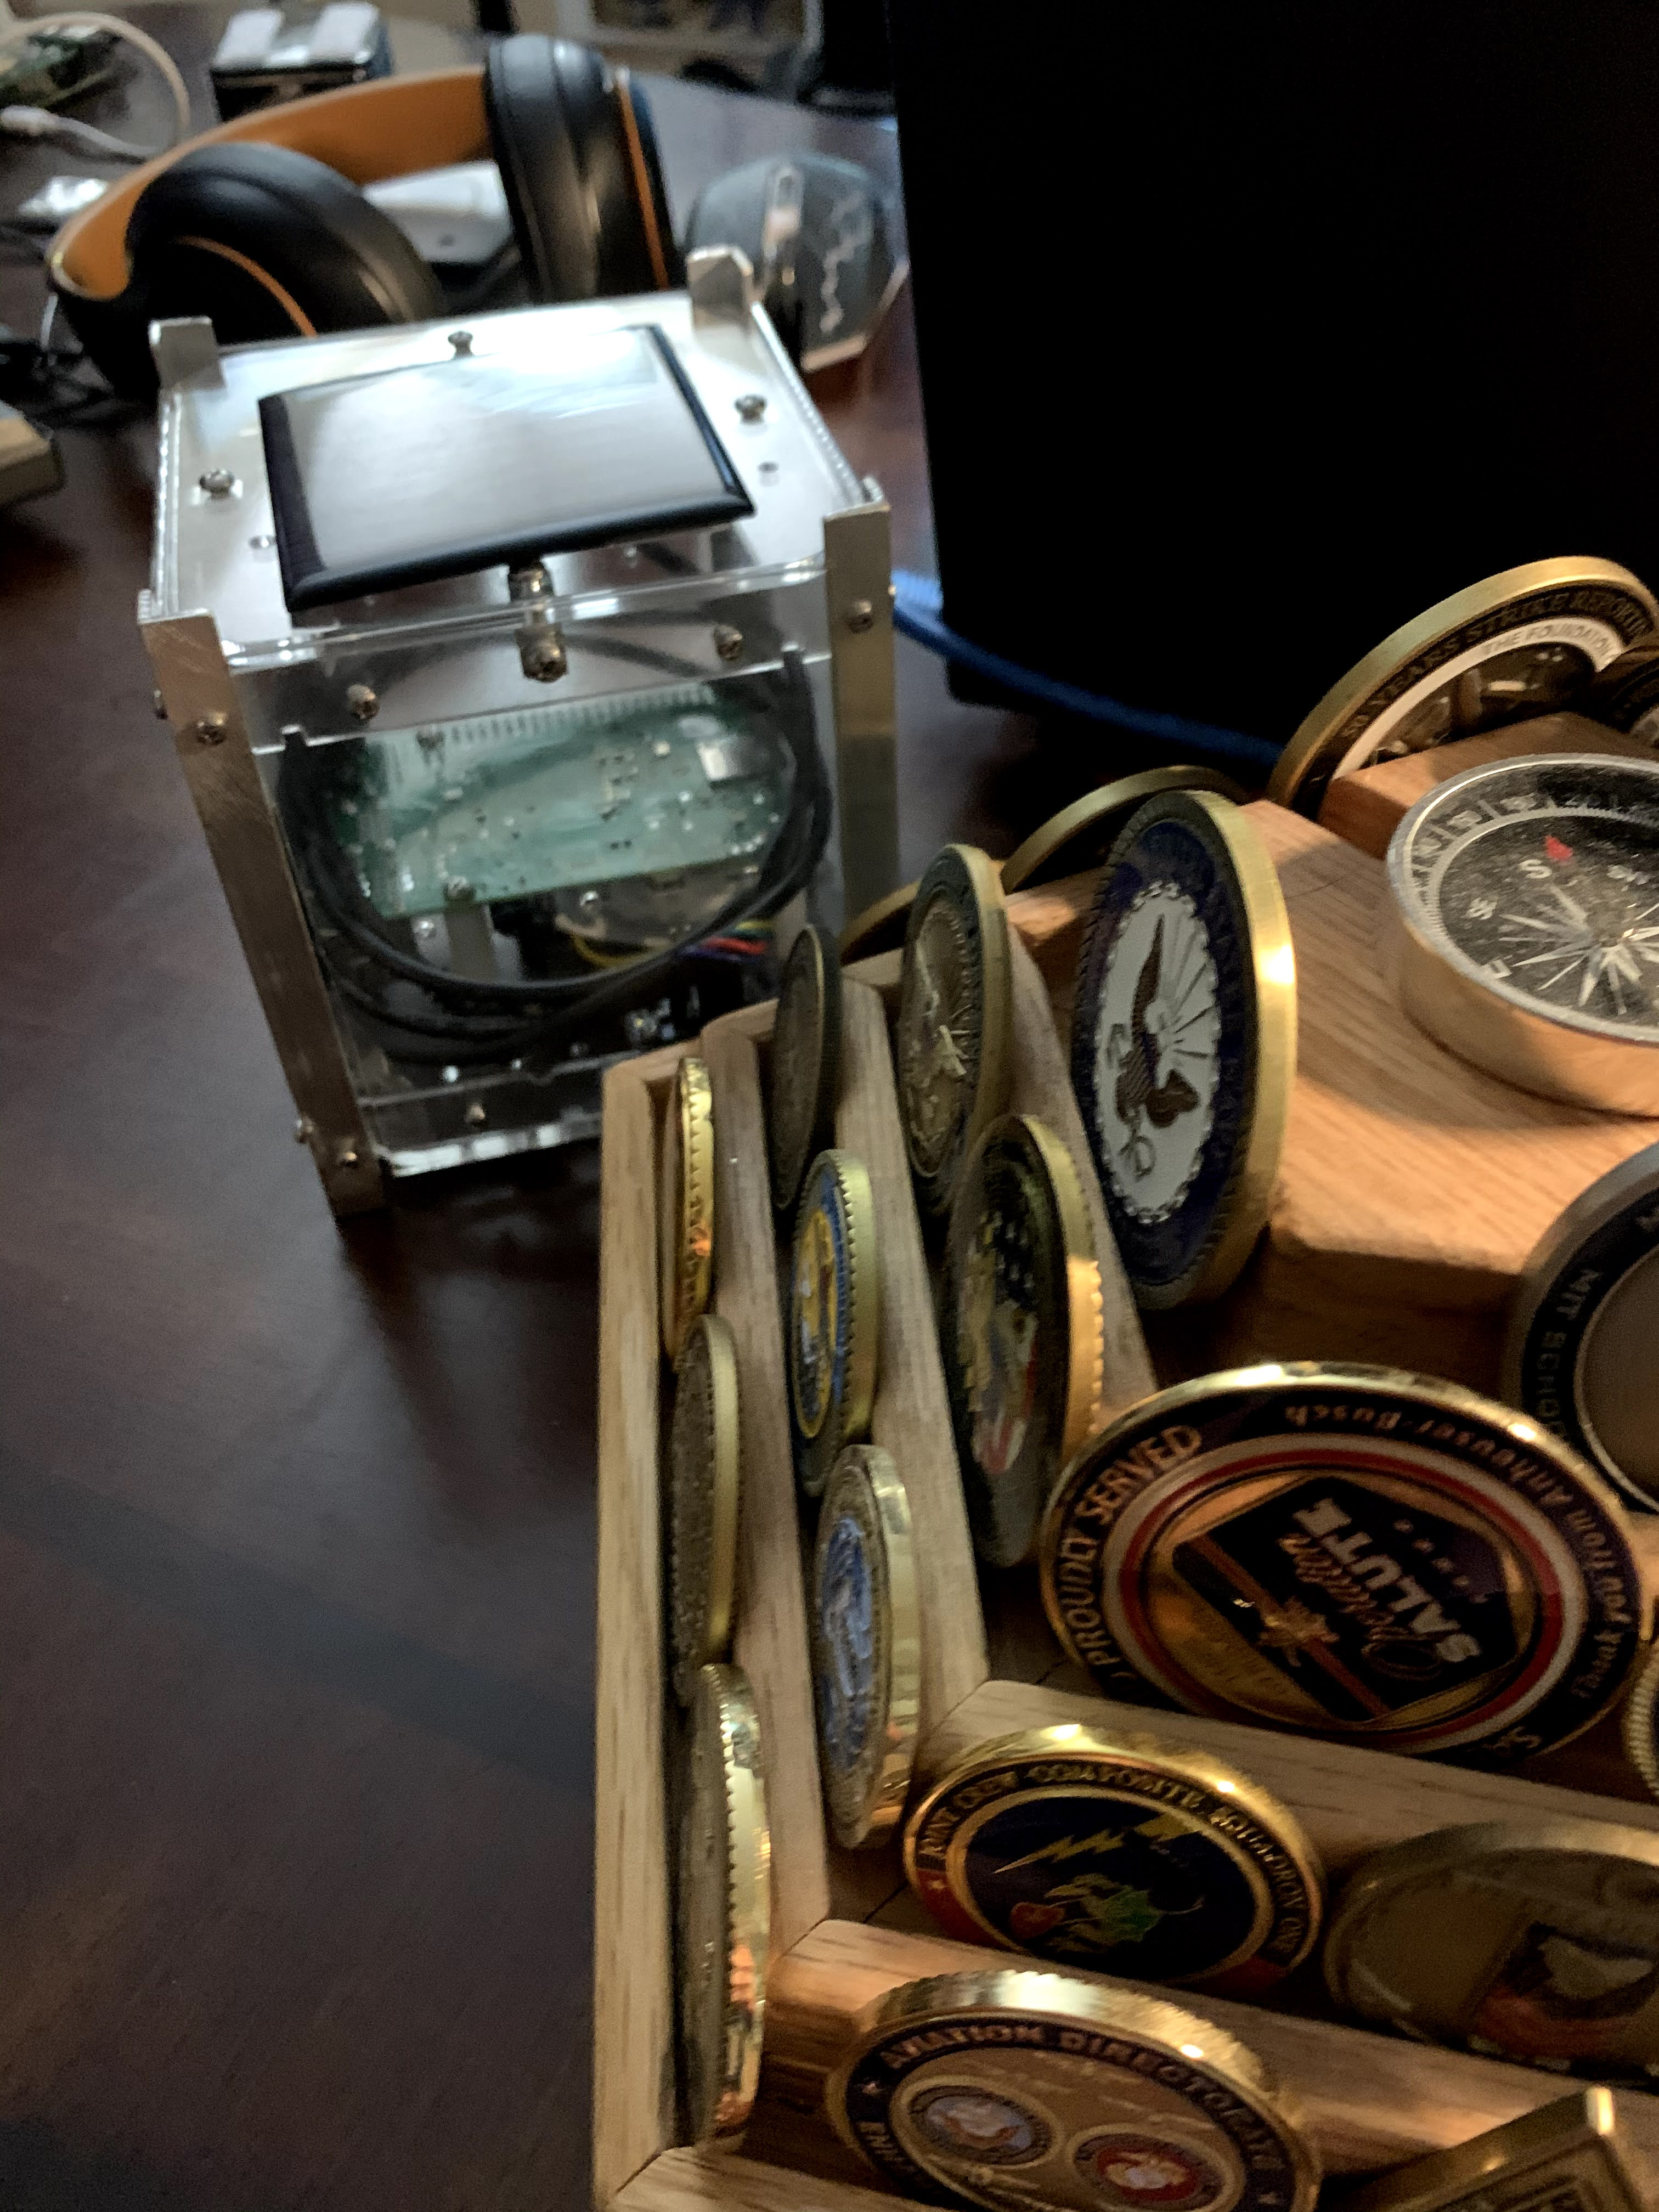Space-debris-cubesat: (124, 279, 903, 1160)
